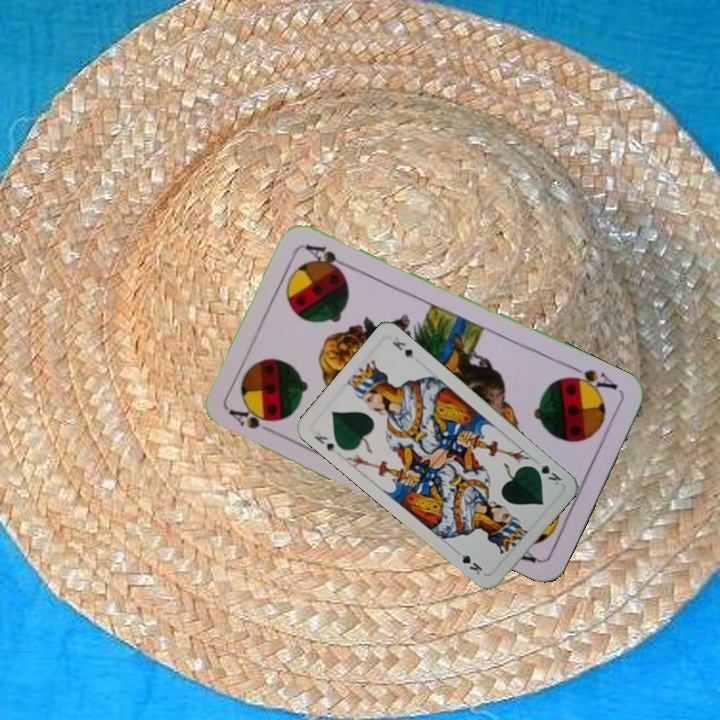GK: (527, 460, 565, 488), (310, 431, 338, 455)
SA: (563, 361, 621, 397), (224, 402, 280, 438)
